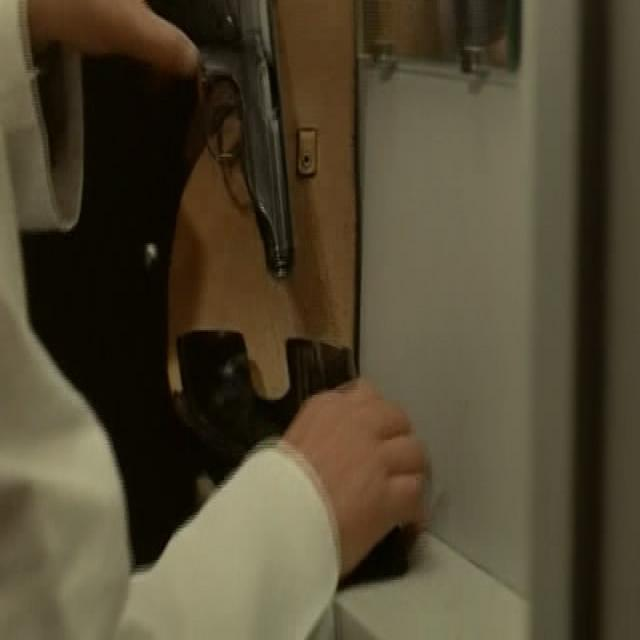gun-knife-thesis - v11 Yolov5 augmented: (125, 0, 308, 310)
